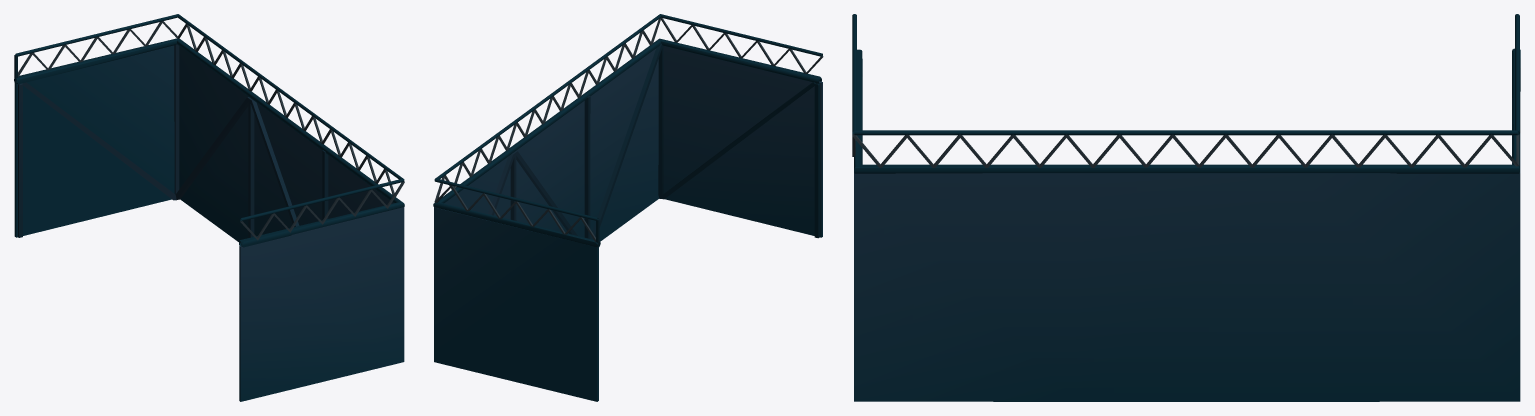
Rendered from tank stand.fbx.
3 renders of one model, left to right at view 1: azimuth 30°, elevation 25°; view 2: azimuth 150°, elevation 25°; view 3: azimuth 270°, elevation 25°, orthographic. The views are drawn at different scales.
Visible parts, largest first — view 1: Cube.082; view 2: Cube.082; view 3: Cube.082.
Boxes of the visible parts, <box> form: Cube.082: <box>14,14,404,401</box>; Cube.082: <box>433,14,823,401</box>; Cube.082: <box>852,14,1520,401</box>.
Bounding box in the file's own units: 432 × 459 × 1028.
